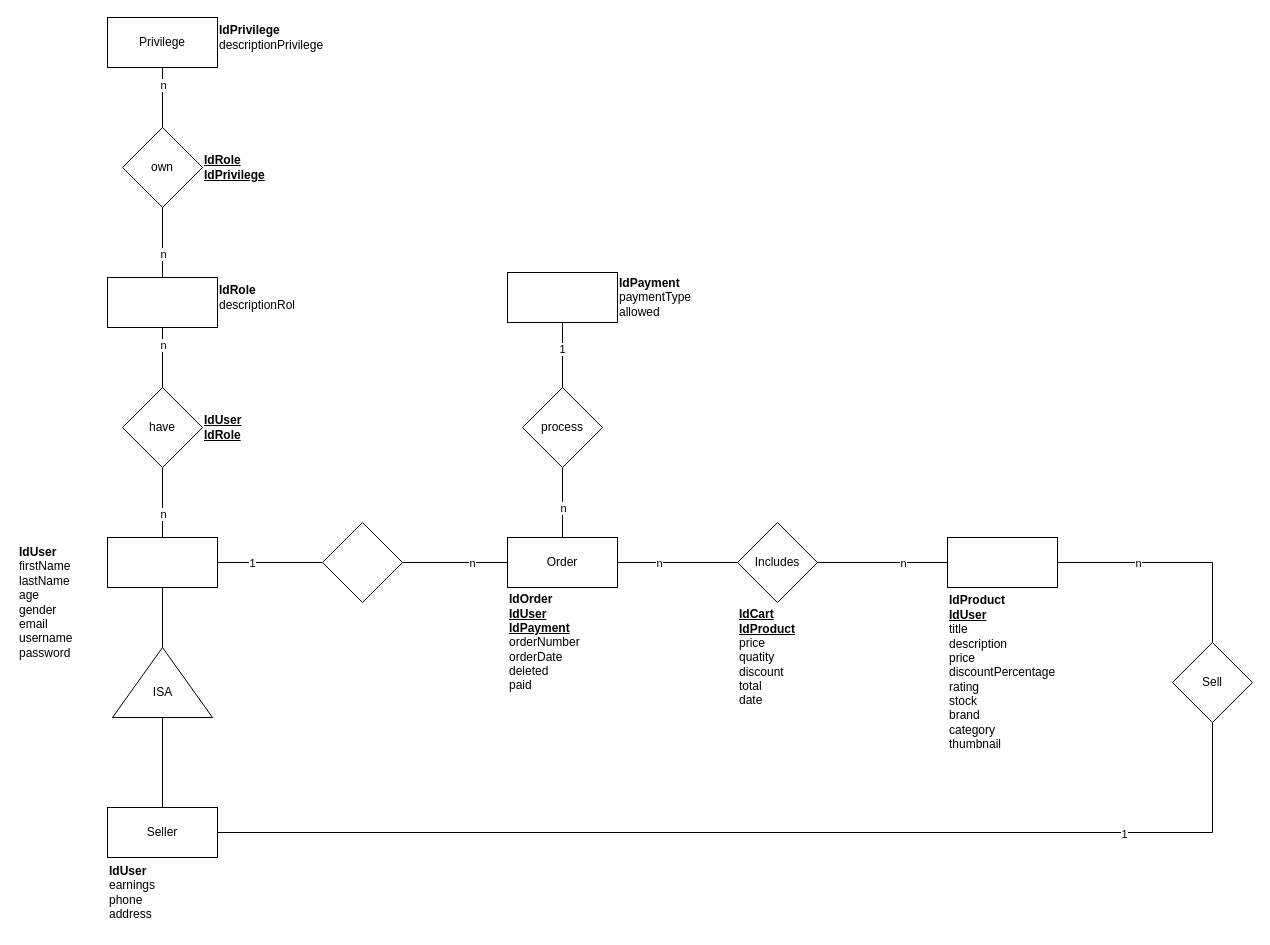
The diagram is 1270 pixels wide and 945 high, and some of its shapes have lost their labels. Each missing label, with the centre of its shape:
"Make" goes at [362,562].
"Payment" goes at [562,297].
"Product" goes at [1002,562].
"Role" goes at [162,302].
"User" goes at [162,562].
